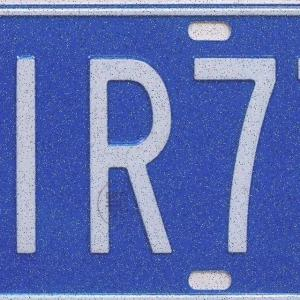Plate: (0, 5, 300, 295)
